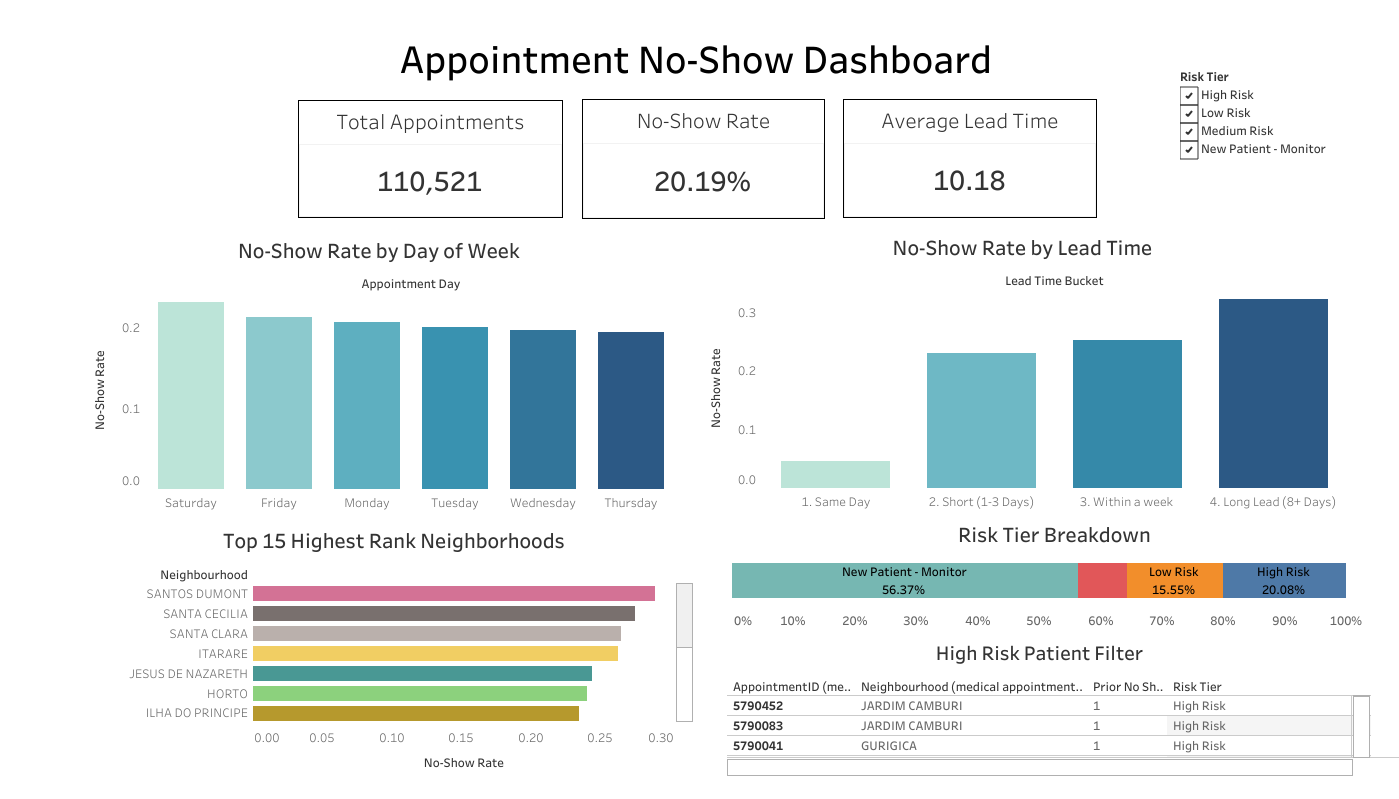

The page's visual inventory and layout, read from the dashboard file:
{"tool":"tableau","page":{"name":"Appointment No-Show Dashboard","canvas":[1400,800],"ordinal":0},"visuals":[{"type":"text","box":[34,10,1324,96]},{"type":"filter","title":"High Risk Patient Filter","param":"[federated.0553kgy0z2c4f81af96ab1w9tu71].[none:risk_tier:nk]","box":[1180,66,160,119]},{"type":"worksheet","title":"No-Show Rate","mark":"Automatic","box":[582,99,243,120]},{"type":"worksheet","title":"AVG Lead Time","mark":"Automatic","box":[843,99,254,119]},{"type":"worksheet","title":"Total Appointments","mark":"Automatic","box":[298,100,265,118]},{"type":"worksheet","title":"No-Show Rate by Lead Time","mark":"Automatic","rows":["Calculation_0014219423330347"],"cols":["Calculation_0014219425656878"],"box":[699,227,647,301]},{"type":"worksheet","title":"No-Show Rate by Day of Week","mark":"Bar","rows":["Calculation_0014219423330347"],"cols":["AppointmentDay"],"box":[83,230,592,281]},{"type":"worksheet","title":"Risk Tier Breakdown","mark":"Automatic","cols":["AppointmentID (medical_appointments_risk_analysis.csv)"],"box":[732,514,645,120]},{"type":"worksheet","title":"Top 15 Highest Rank Neighborhoods","mark":"Automatic","rows":["Neighbourhood"],"cols":["Calculation_0014219423330347"],"box":[113,520,580,258]},{"type":"worksheet","title":"High Risk Patient Filter","mark":"Automatic","rows":["AppointmentID (medical_appointments_risk_analysis.csv)","Neighbourhood (medical_appointments_risk_analysis.csv)","prior_no_show_rate","risk_tier"],"box":[727,633,643,143]}]}

Visuals, with their boxes in screenshot pixels (x1, y1, x2, y2), scaled from the page's 1400x800 canvas onto the 1399x799 screenshot:
text: [x1=34, y1=10, x2=1357, y2=106]
"High Risk Patient Filter" filter: [x1=1179, y1=66, x2=1339, y2=185]
"No-Show Rate" worksheet: [x1=582, y1=99, x2=824, y2=219]
"AVG Lead Time" worksheet: [x1=842, y1=99, x2=1096, y2=218]
"Total Appointments" worksheet: [x1=298, y1=100, x2=563, y2=218]
"No-Show Rate by Lead Time" worksheet: [x1=699, y1=227, x2=1345, y2=527]
"No-Show Rate by Day of Week" worksheet (Bar marks): [x1=83, y1=230, x2=675, y2=510]
"Risk Tier Breakdown" worksheet: [x1=731, y1=513, x2=1376, y2=633]
"Top 15 Highest Rank Neighborhoods" worksheet: [x1=113, y1=519, x2=693, y2=777]
"High Risk Patient Filter" worksheet: [x1=726, y1=632, x2=1369, y2=775]
